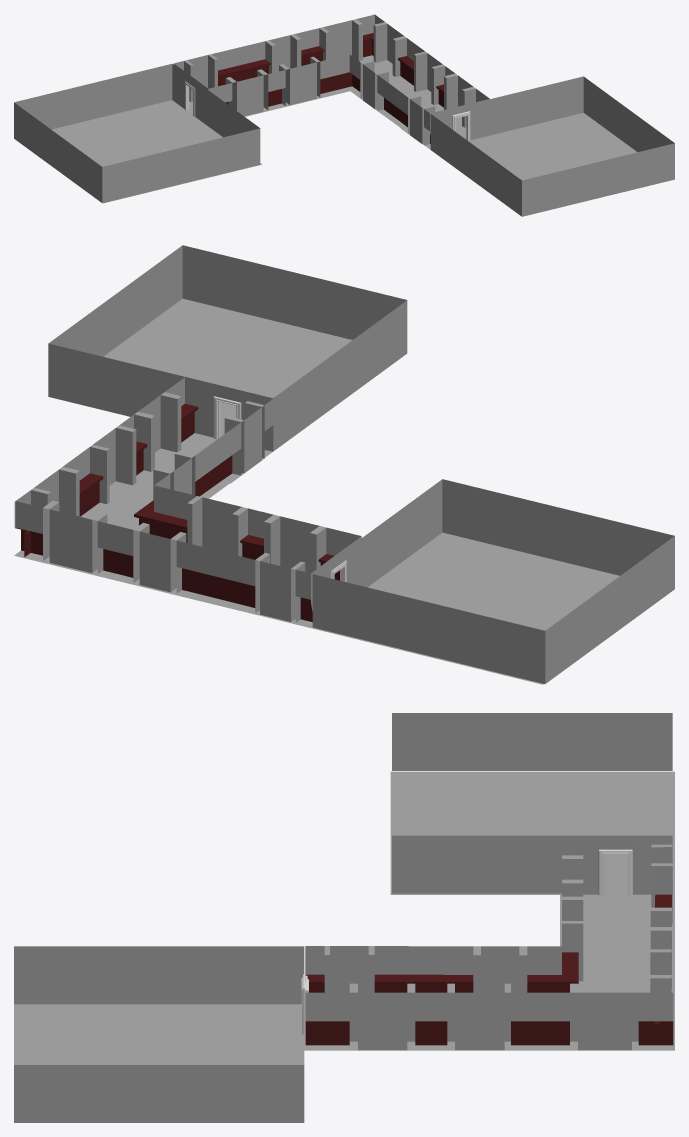
The model's file is hallway.fbx.
3 renders of one model, top to bottom at view 1: azimuth 30°, elevation 25°; view 2: azimuth 150°, elevation 25°; view 3: azimuth 270°, elevation 25°, orthographic. The views are drawn at different scales.
Parts seen in each view (by area): view 1: pCube81, pCube82, pPlane5, pPlane4, pPlane6, pPlane7; view 2: pCube81, pCube82, pPlane5, pPlane4, pPlane6, pPlane7; view 3: pCube81, pCube82, pPlane4, pPlane5, pPlane7, pPlane6.
Boxes of the visible parts, bbox=[...] form: pCube81: bbox=[51, 55, 674, 216]; pCube82: bbox=[14, 64, 260, 203]; pPlane5: bbox=[173, 32, 360, 116]; pPlane4: bbox=[356, 46, 489, 147]; pPlane6: bbox=[300, 14, 374, 65]; pPlane7: bbox=[366, 14, 417, 83]; pCube81: bbox=[14, 245, 619, 684]; pCube82: bbox=[312, 479, 674, 683]; pPlane5: bbox=[121, 474, 361, 624]; pPlane4: bbox=[79, 377, 273, 509]; pPlane6: bbox=[15, 500, 126, 580]; pPlane7: bbox=[14, 455, 91, 557]; pCube81: bbox=[14, 771, 674, 1122]; pCube82: bbox=[392, 713, 672, 893]; pPlane4: bbox=[301, 946, 542, 1050]; pPlane5: bbox=[527, 836, 672, 992]; pPlane7: bbox=[535, 983, 673, 1050]; pPlane6: bbox=[650, 949, 671, 1050].
Bounding box in the file's own units: 655 × 54.5 × 520.
